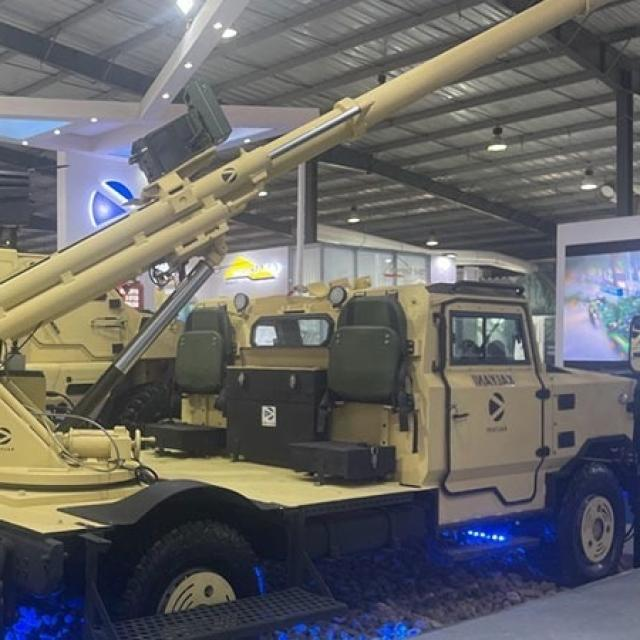truck: (0, 0, 584, 416), (0, 282, 632, 617)
